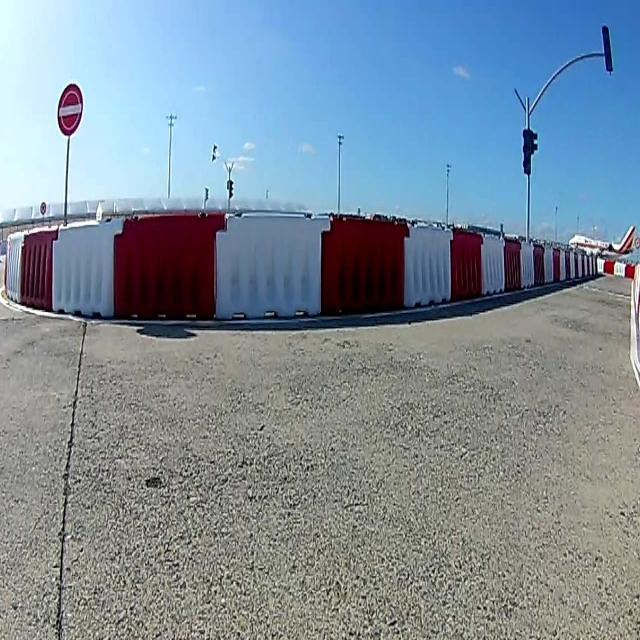girisyok: (57, 83, 83, 136)
